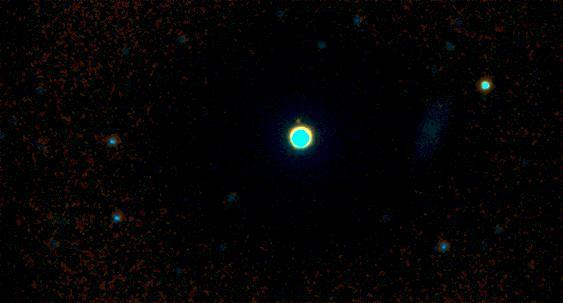star: (282, 105, 312, 135)
